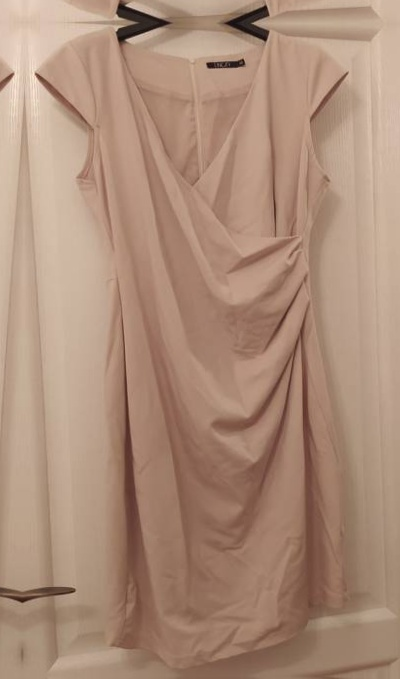Dress: (24, 36, 380, 655), (0, 35, 22, 654), (26, 0, 382, 9), (0, 0, 25, 8)
